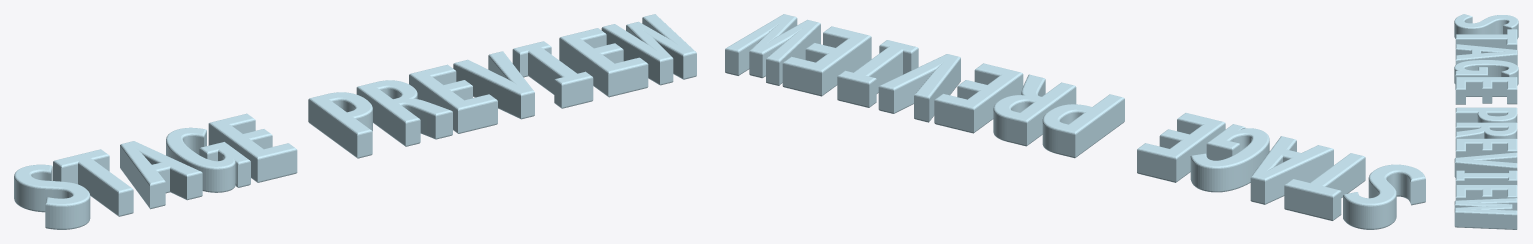
Rendered from stage_preview.obj.
3 renders of one model, left to right at view 1: azimuth 30°, elevation 25°; view 2: azimuth 150°, elevation 25°; view 3: azimuth 270°, elevation 25°, orthographic. The views are drawn at different scales.
Parts seen in each view (by area): view 1: StagePreview; view 2: StagePreview; view 3: StagePreview.
Boxes of the visible parts, <box> form: StagePreview: <box>14,14,696,229</box>; StagePreview: <box>725,14,1425,229</box>; StagePreview: <box>1454,14,1518,229</box>.
Bounding box in the file's own units: 6.2 × 0.2344 × 0.8414.
1 material, 1 textured.
